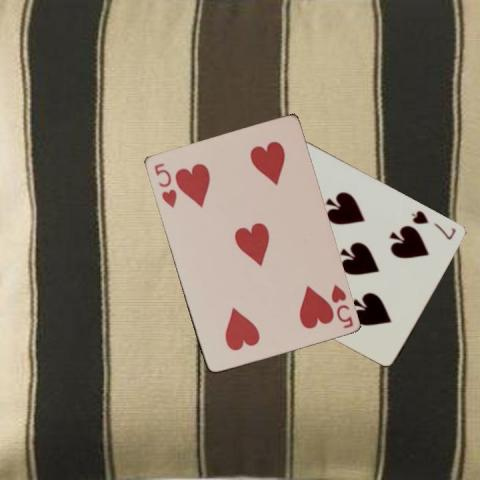5h: (327, 281, 355, 330), (151, 160, 178, 210)
7s: (409, 208, 458, 242)
